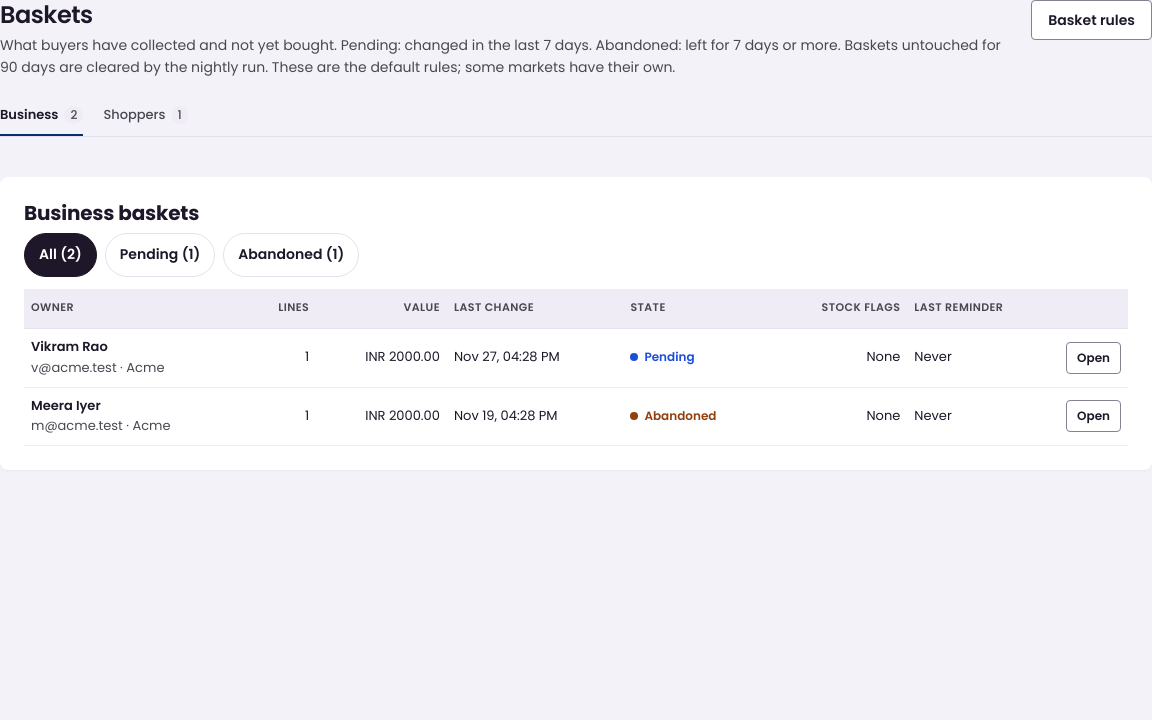
Test: Baskets: rules from settings › refuses invalid rules, says the effect before saving, and saves
Later steps or results of the test are not shown.
Click the button "Basket rules" at [1092, 20], box [1031,0,1151,40]
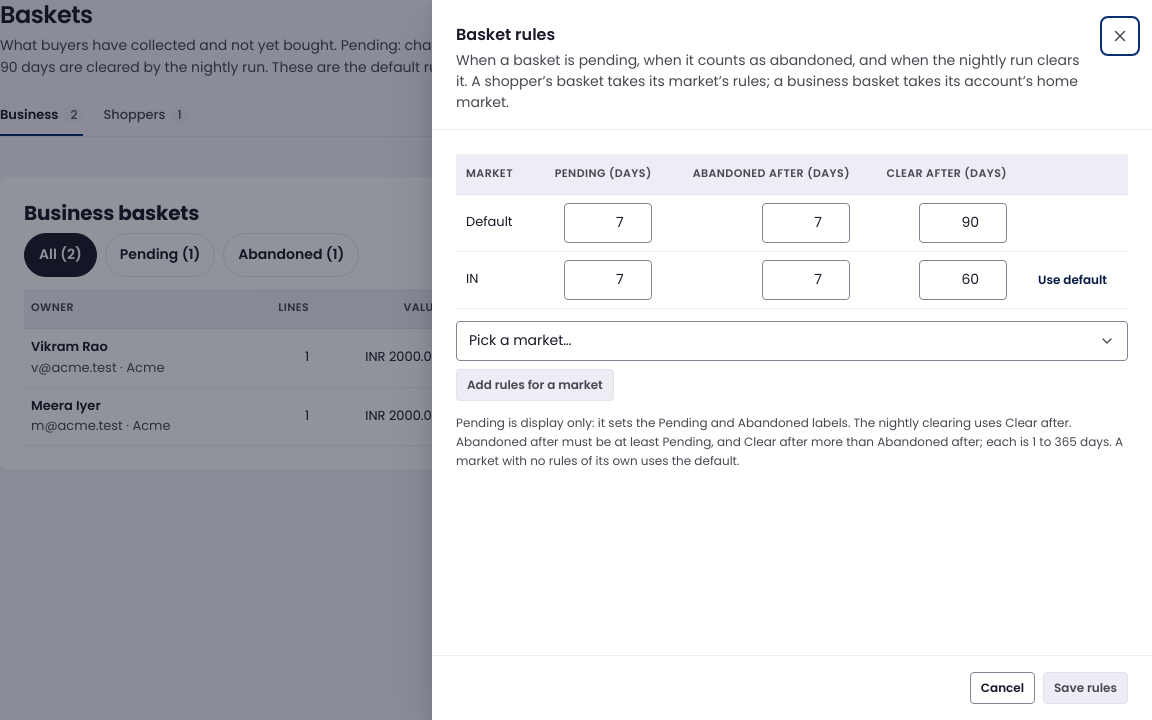
Now the text "Pending is display only" is shown, box [456,414,1123,469]
Replace the text in the number field named "Default clear after days" with "7" at [963, 223], box [919,203,1007,243]
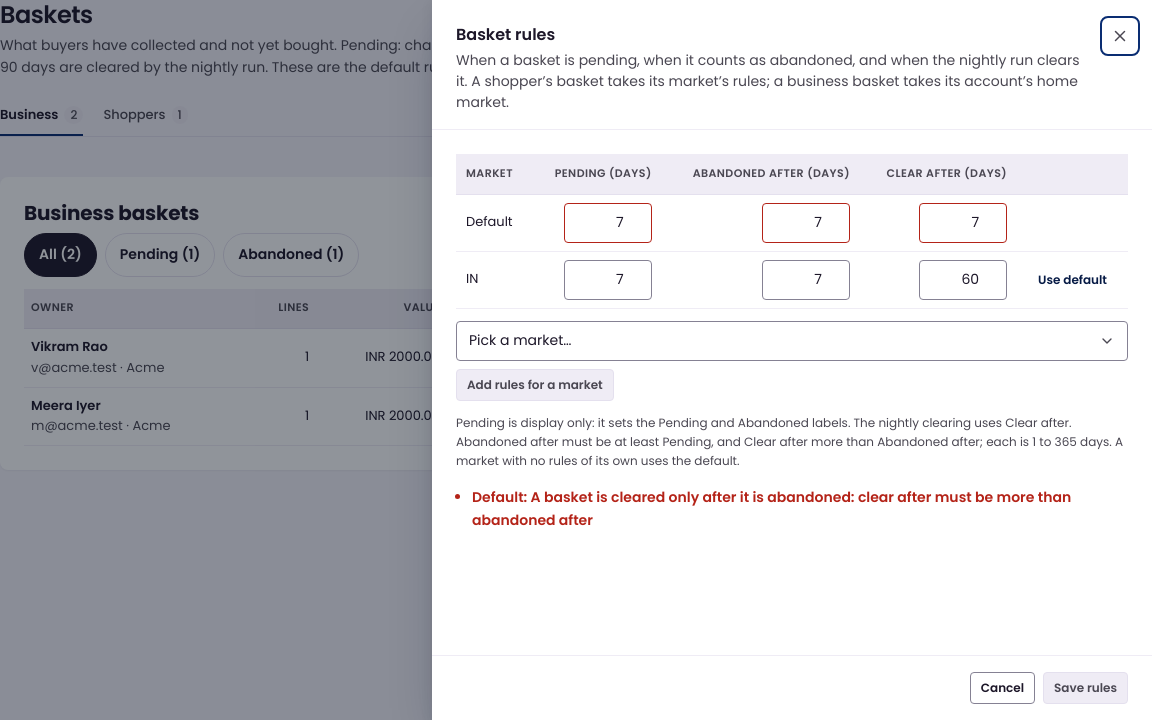
Now the button "Save rules" is disabled, box [1043,672,1128,704]
Replace the text in the number field named "Default pending days" with "2" at [608, 223], box [564,203,652,243]
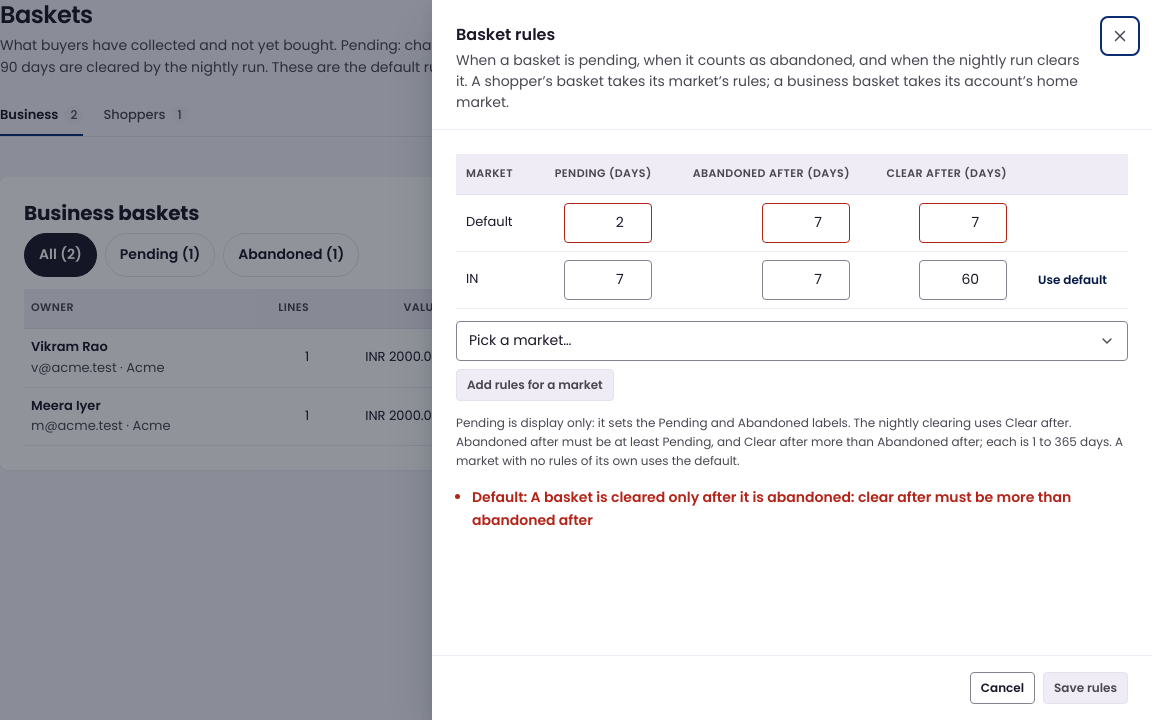
Replace the text in the number field named "Default abandoned after days" with "2" at [806, 223], box [762,203,850,243]
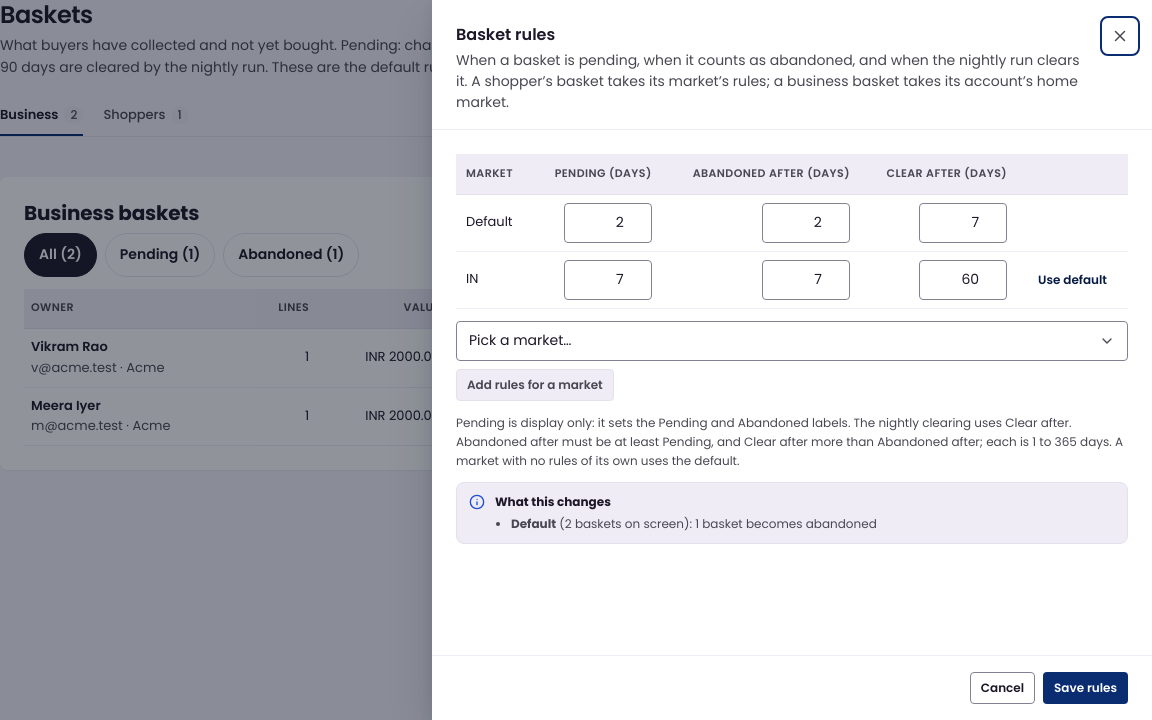
Replace the text in the number field named "Default clear after days" with "8" at [963, 223], box [919,203,1007,243]
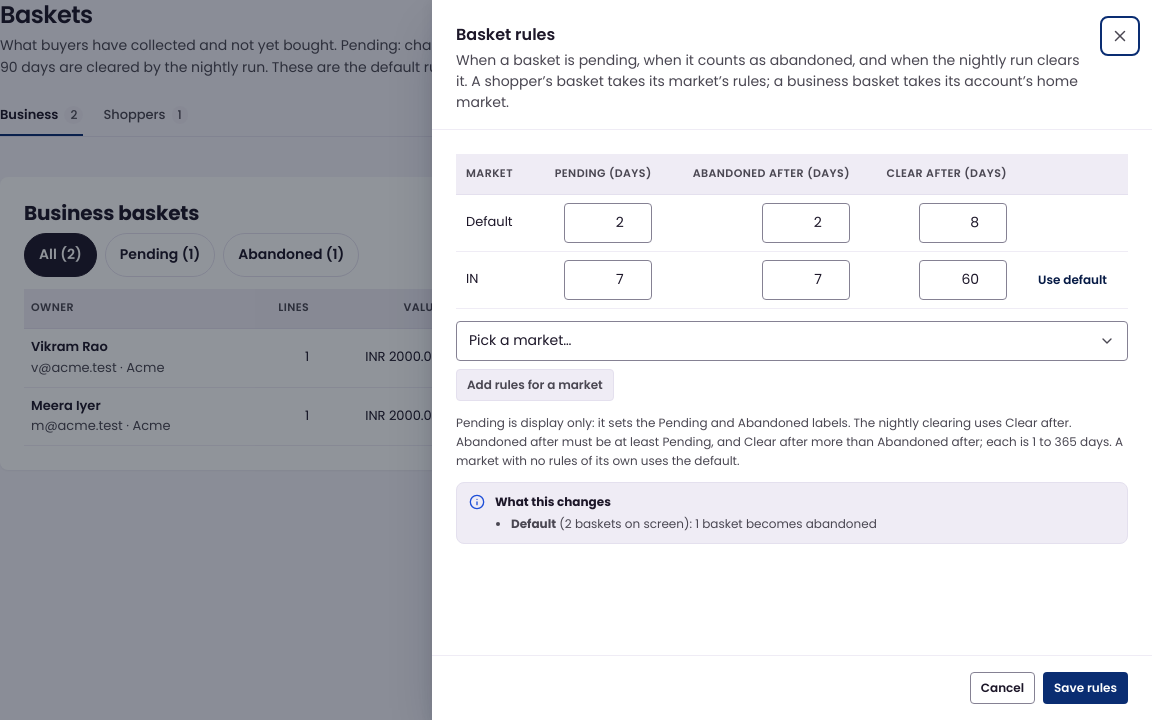
Now the text with test id "basket-rules-effect-default" reads "1 basket becomes abandoned", box [695,516,877,532]
